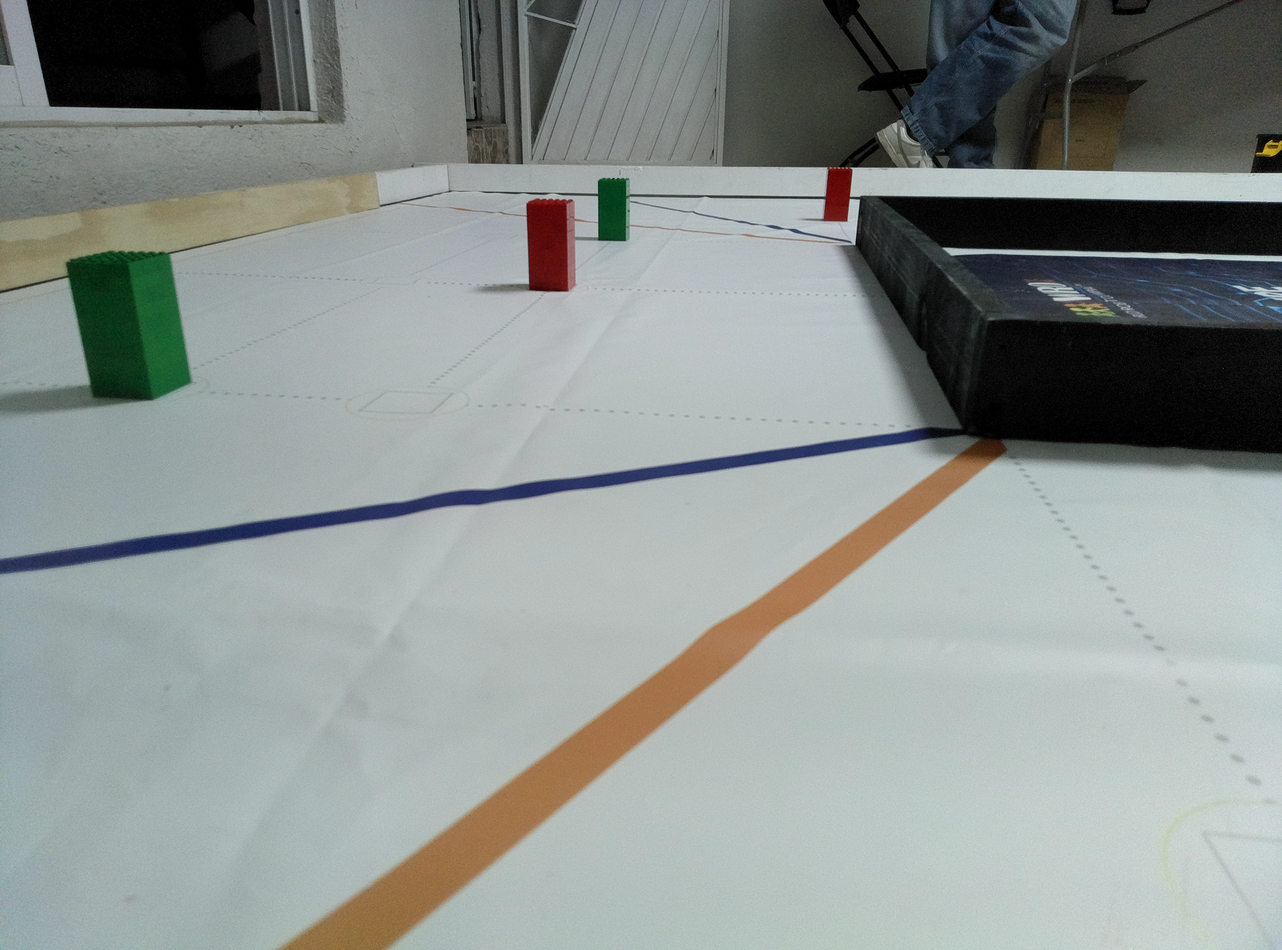greenbox: (64, 248, 195, 403), (597, 176, 631, 242)
redbox: (525, 196, 577, 293), (821, 165, 853, 223)
